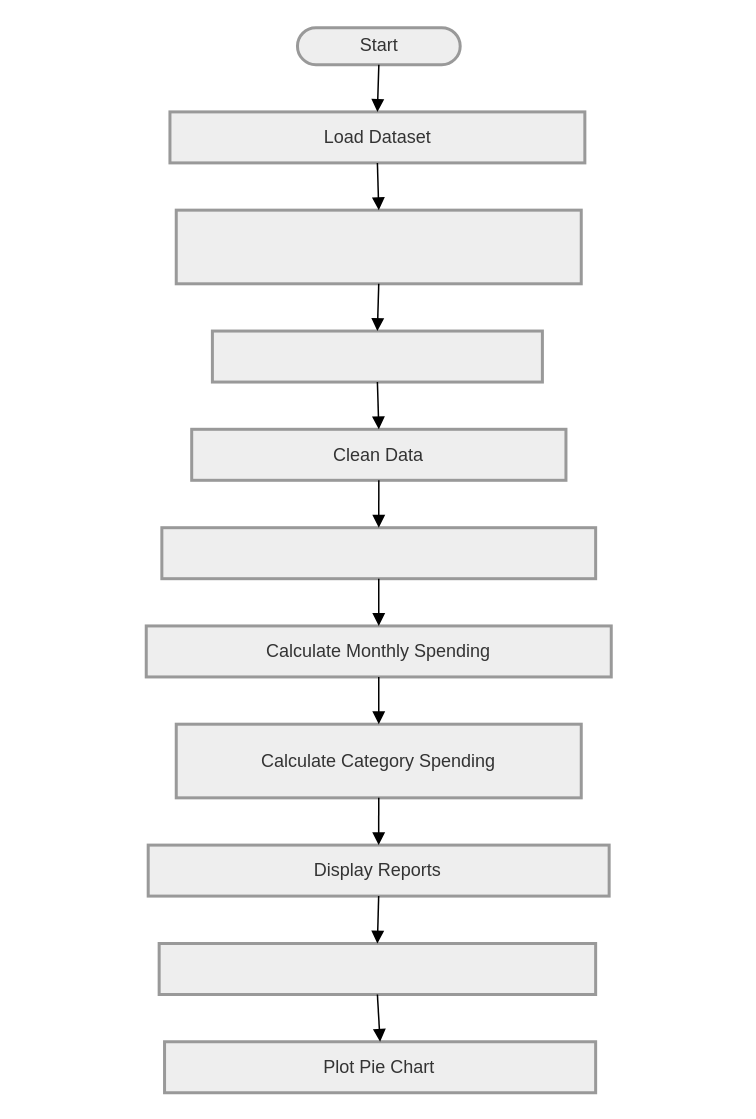
The diagram is 756 pixels wide and 1119 high, and some of its shapes have lost their labels. Here are the shapes that lost their labels. From the top down, the centre of each, then its label:
At point 378,246: "Add Merchant and Payment Method".
At point 376,356: "Rename and Convert Date".
At point 378,552: "Extract Month".
At point 376,968: "Plot Bar Chart".
